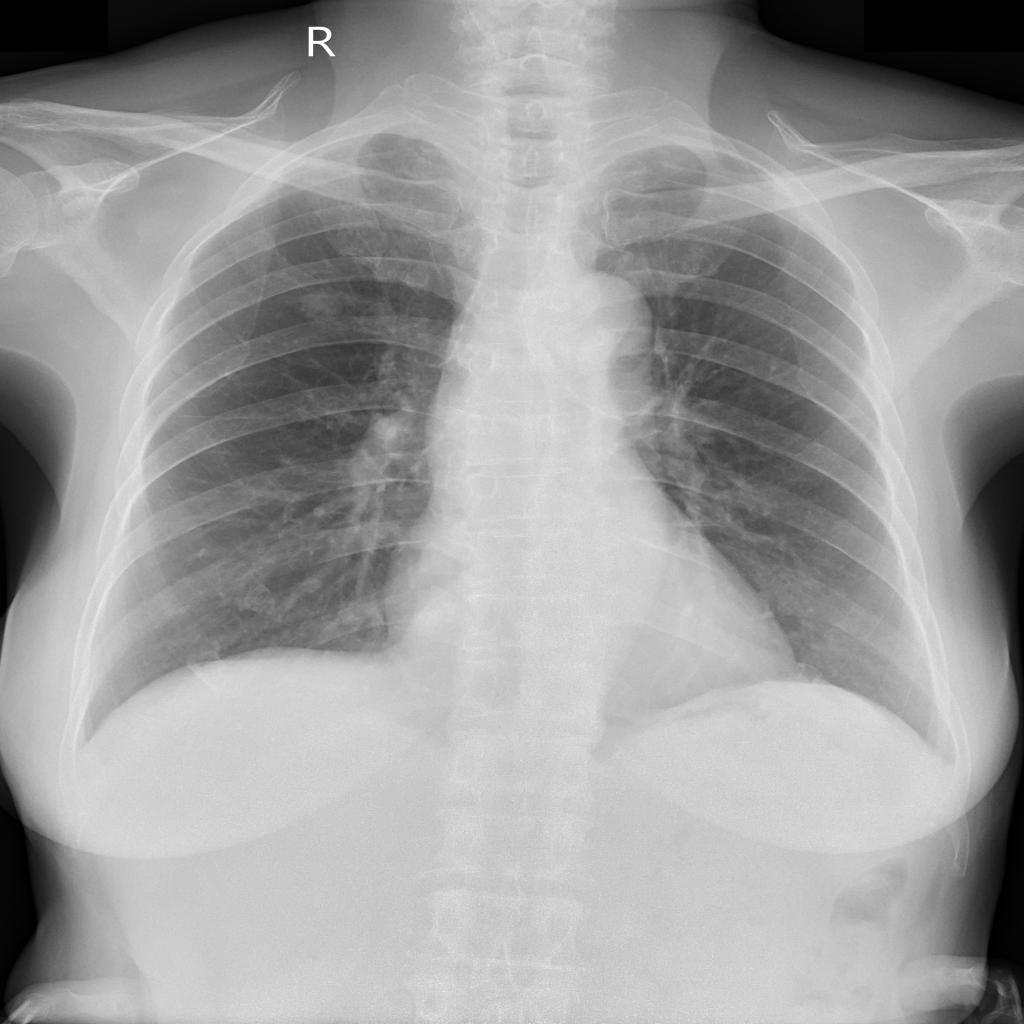Nodule: (299, 292, 346, 323)
